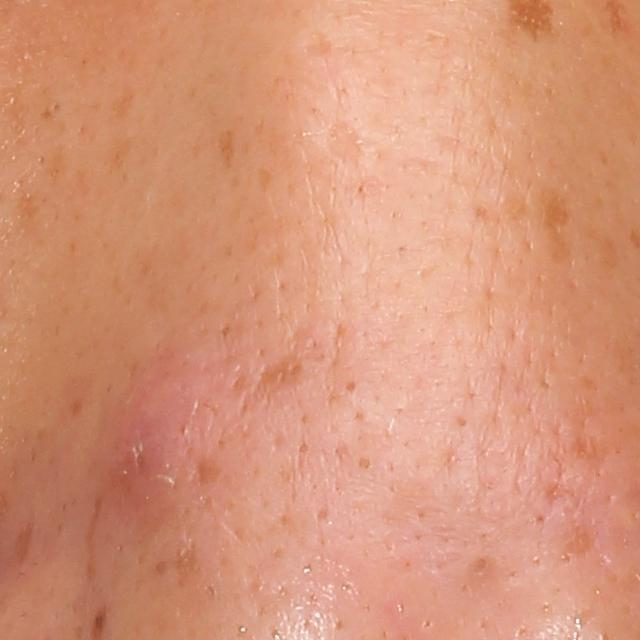atrophic_scar: (325, 118, 364, 176)
comedo: (341, 377, 360, 396), (355, 452, 373, 471)
melasma: (251, 347, 313, 402), (537, 191, 574, 269), (8, 508, 39, 569), (213, 125, 240, 176)
